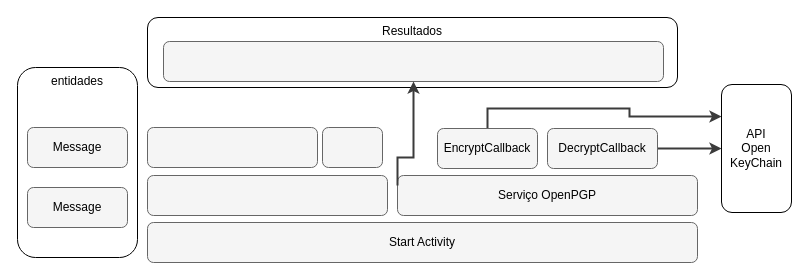
The diagram is 809 pixels wide and 280 high, and some of its shapes have lost their labels. The shapes that lost their labels are listed below. From the top down, each one's centre as x and y in pixels, then its label:
At point (413, 61): "RequestRepository".
At point (232, 147): "HTTPAsyncMessageHandler".
At point (352, 147): "Auth".
At point (267, 195): "Serviço HTTP".
